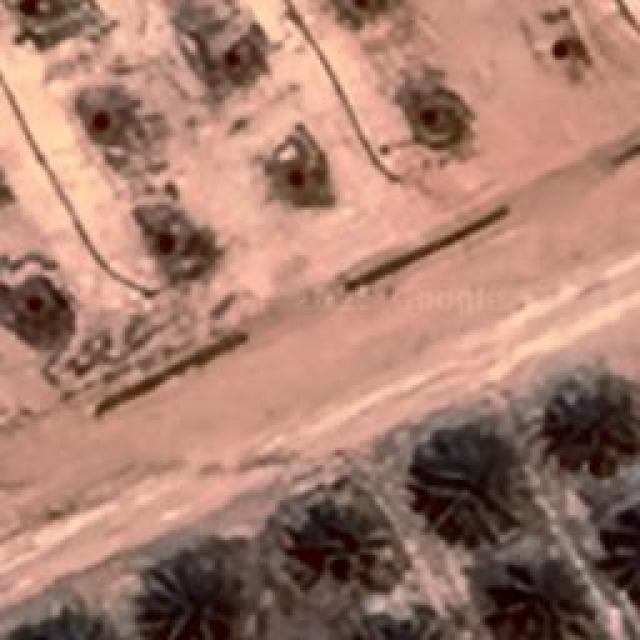PalmTree: (93, 53, 624, 549), (31, 93, 191, 605), (420, 440, 515, 540), (291, 504, 384, 586), (560, 379, 632, 469), (500, 572, 588, 636), (2, 608, 128, 640), (342, 612, 450, 640), (318, 0, 407, 32)
